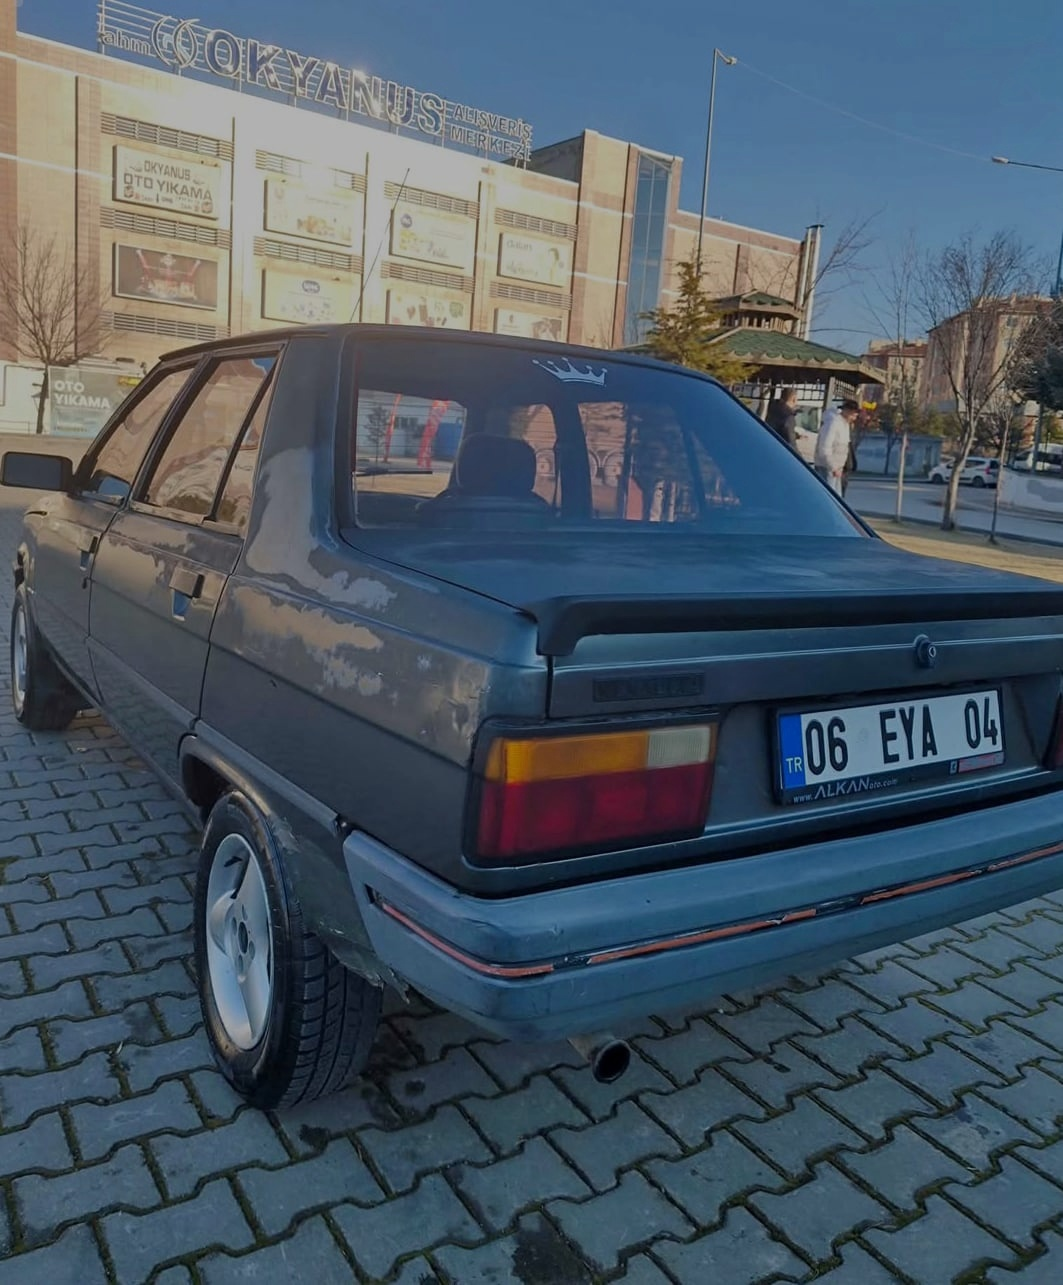plaka: (798, 689, 1016, 805)
